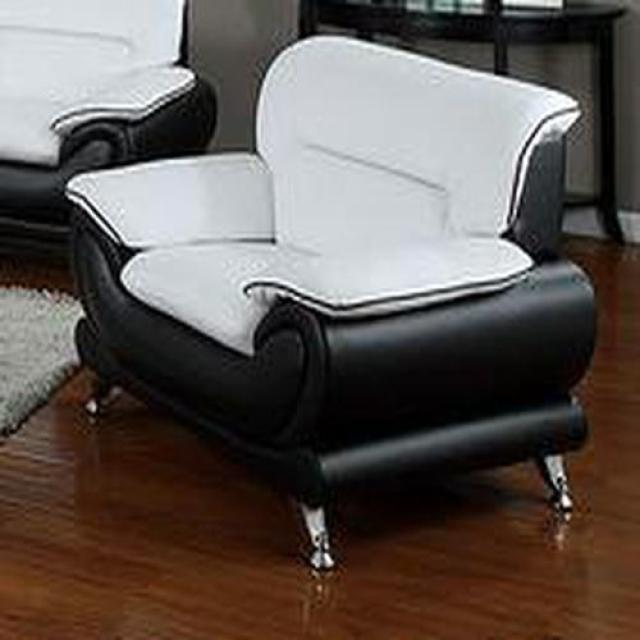sofa: (65, 36, 599, 579)
